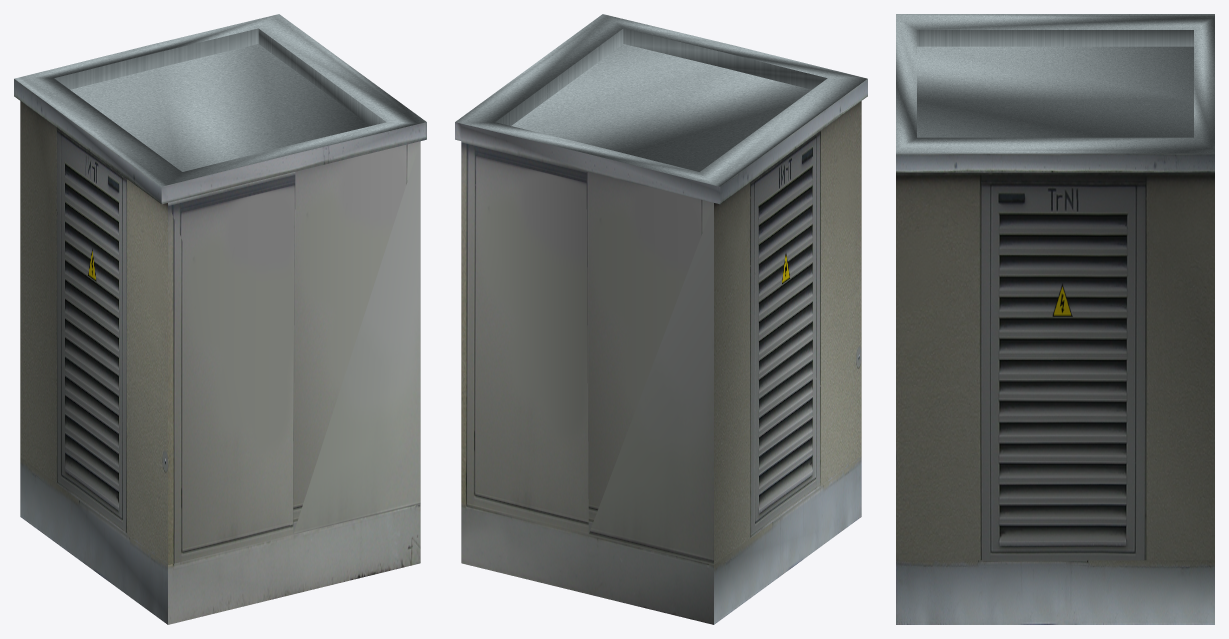
Rendered from Variac.fbx.
3 views of the same model, side by side, from view 1: azimuth 30°, elevation 25°; view 2: azimuth 150°, elevation 25°; view 3: azimuth 270°, elevation 25° (orthographic). The views are drawn at different scales.
Visible parts, largest first — view 1: AUTOTRANSFORMER; view 2: AUTOTRANSFORMER; view 3: AUTOTRANSFORMER.
Boxes of the visible parts, <box> form: AUTOTRANSFORMER: <box>14,14,426,624</box>; AUTOTRANSFORMER: <box>455,14,867,624</box>; AUTOTRANSFORMER: <box>896,14,1214,624</box>.
Bounding box in the file's own units: 74.56 × 118 × 71.93.
Materials: 1 (1 with a texture image).
